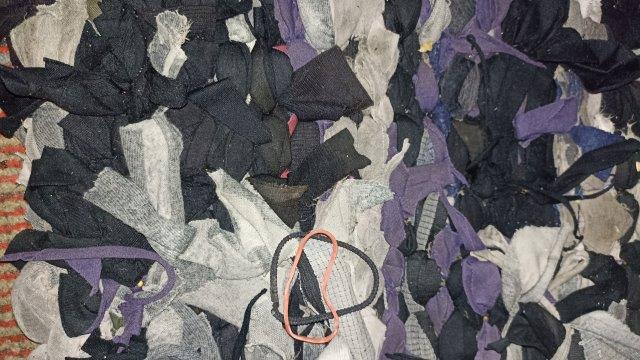karet: (270, 229, 379, 344)
